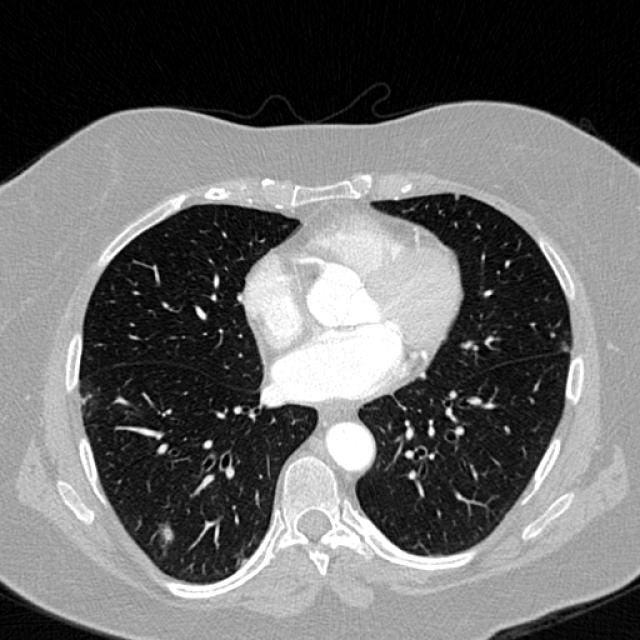nodule: (146, 514, 186, 554)
